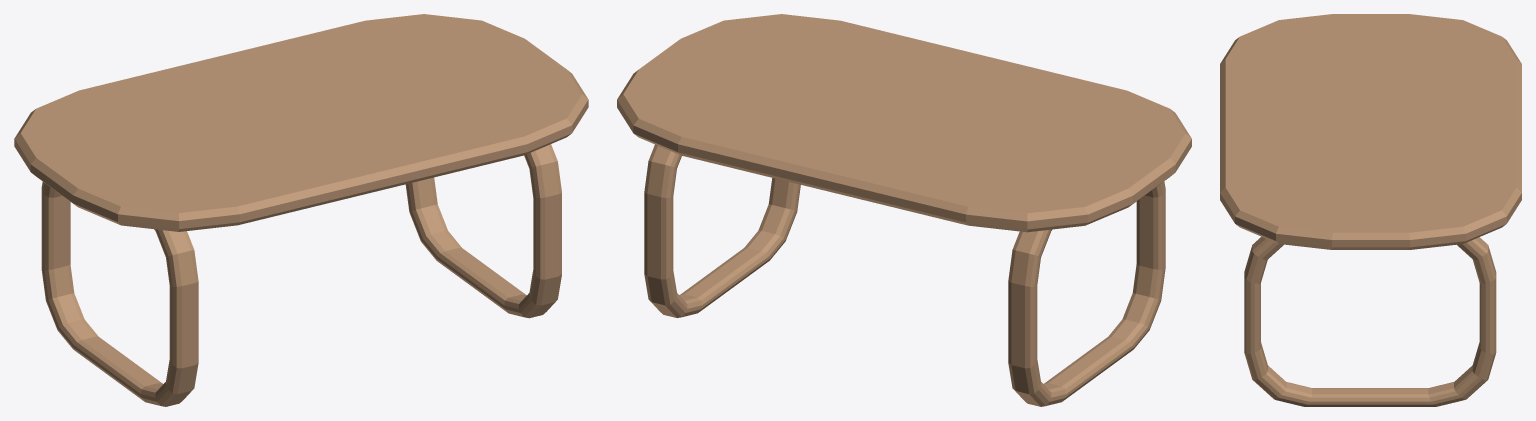
File: Desk.fbx
3 renders of one model, left to right at view 1: azimuth 30°, elevation 25°; view 2: azimuth 150°, elevation 25°; view 3: azimuth 270°, elevation 25°, orthographic. The views are drawn at different scales.
Parts seen in each view (by area): view 1: Desk; view 2: Desk; view 3: Desk.
Part boxes in pixels (<box>): Desk: <box>14,14,588,406</box>; Desk: <box>617,14,1191,406</box>; Desk: <box>1220,14,1521,406</box>.
Bounding box in the file's own units: 1.18 × 0.4896 × 0.6744.
Materials: 1 (1 with a texture image).
